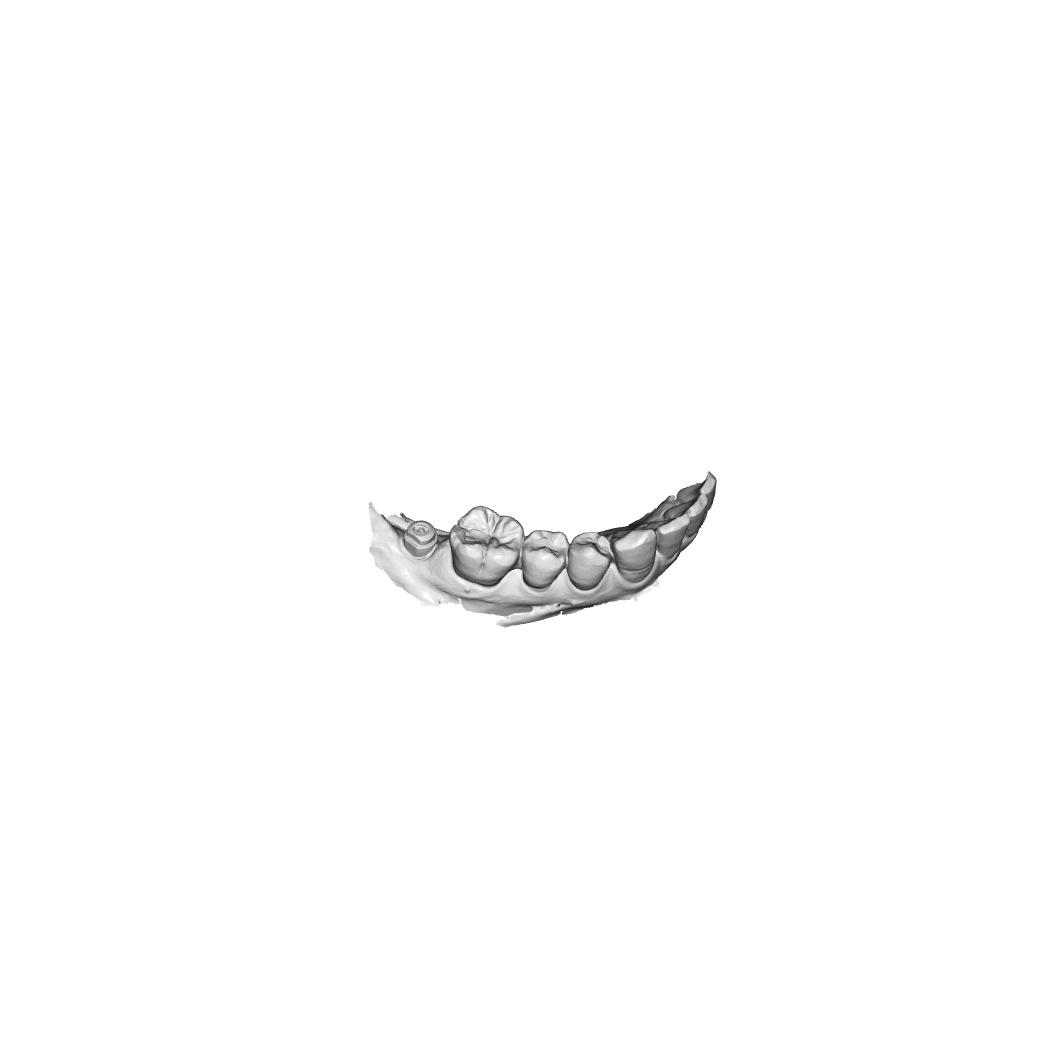canine: (612, 528, 658, 584)
implant_minus: (403, 519, 438, 559)
incisor: (643, 513, 692, 561), (664, 492, 709, 538), (675, 470, 718, 506)
molar: (447, 504, 526, 588)
premolar: (522, 529, 570, 590), (567, 531, 614, 591)
